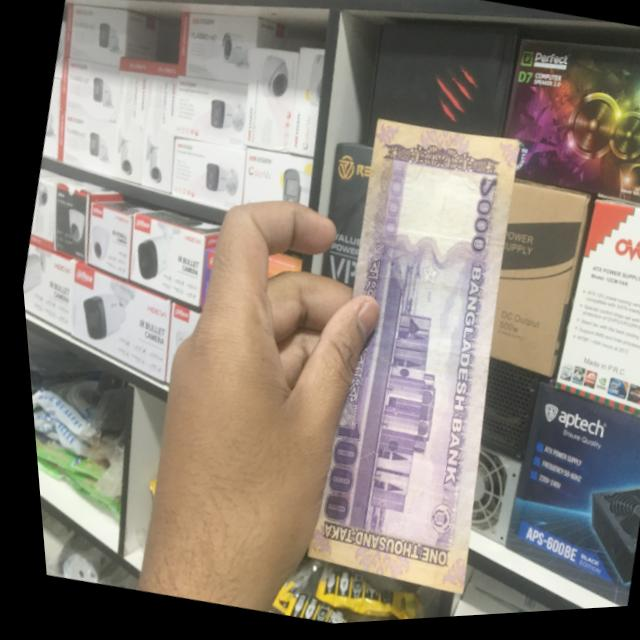Taka: (271, 114, 553, 607)
